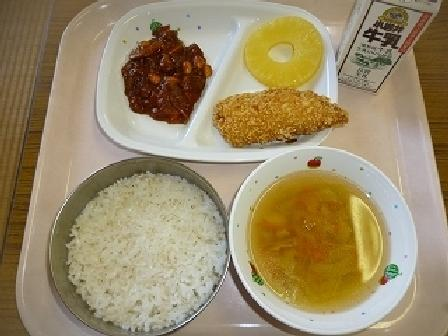Milk: (330, 2, 441, 90)
Rice: (44, 158, 235, 329)
Soups: (222, 155, 413, 324)
cooked food based on meat: (114, 19, 215, 126)
cutlet: (209, 85, 353, 156)
pineapple: (240, 10, 322, 86)
